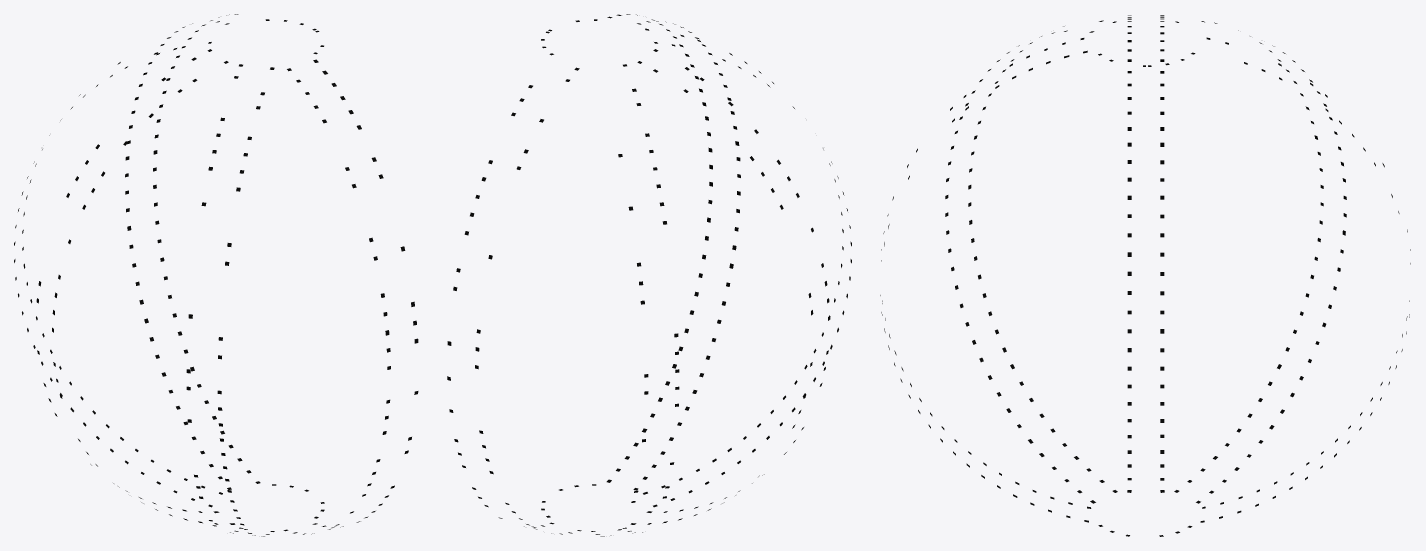
File: PortalTrackLights.fbx
3 renders of one model, left to right at view 1: azimuth 30°, elevation 25°; view 2: azimuth 150°, elevation 25°; view 3: azimuth 270°, elevation 25°, orthographic.
Visible parts, largest first — view 1: HubFrameLights; view 2: HubFrameLights; view 3: HubFrameLights.
Part boxes in pixels (bbox=[...]): HubFrameLights: bbox=[14, 14, 418, 536]; HubFrameLights: bbox=[447, 14, 851, 536]; HubFrameLights: bbox=[880, 15, 1410, 536].
Size of the model in its own units: 1667 by 2709 by 2770.
Materials: 1 (1 with a texture image).
